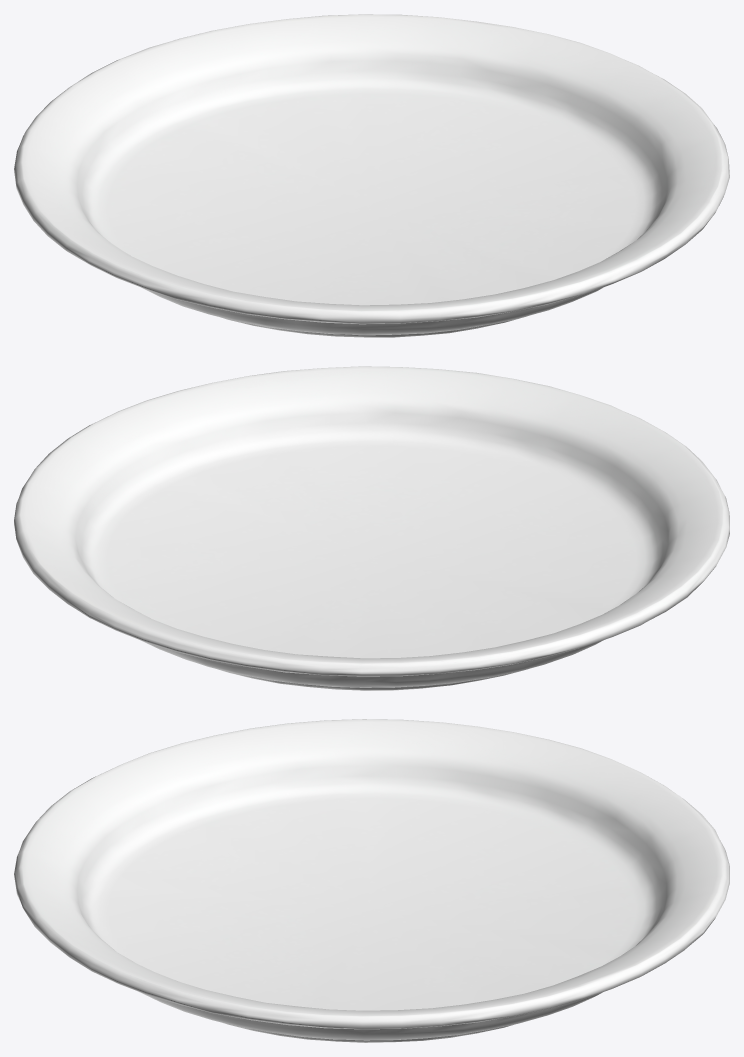
Rendered from Dinner_Plate_10_4inch_circomfrence__0225003919_texture.glb.
3 renders of one model, top to bottom at view 1: azimuth 30°, elevation 25°; view 2: azimuth 150°, elevation 25°; view 3: azimuth 270°, elevation 25°, orthographic.
Visible parts, largest first — view 1: Mesh_0.001; view 2: Mesh_0.001; view 3: Mesh_0.001.
Boxes of the visible parts, box(x1,y1,x2,y2) form: Mesh_0.001: box(14, 14, 729, 337); Mesh_0.001: box(14, 366, 729, 690); Mesh_0.001: box(14, 719, 729, 1042).
Bounding box in the file's own units: 0.2524 × 0.0254 × 0.2524.
1 material, 1 textured.
